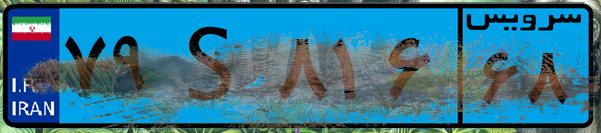1: (330, 28, 385, 110)
6: (385, 28, 445, 110), (475, 38, 525, 113)
7: (57, 26, 110, 100)
8: (270, 28, 330, 110), (525, 38, 570, 115)
9: (110, 28, 158, 98)
S: (158, 12, 270, 120)
